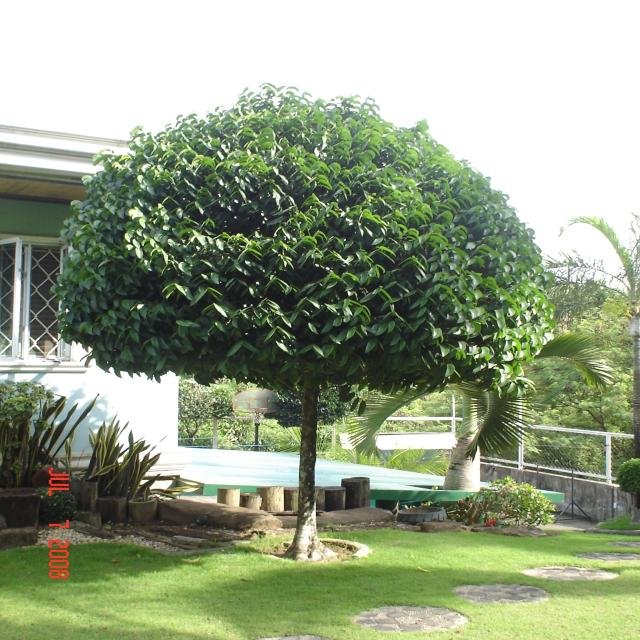foliage: (59, 85, 541, 562)
